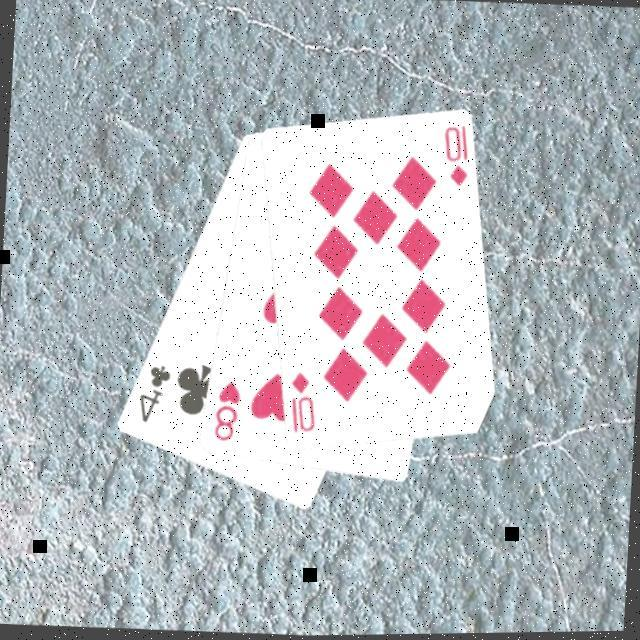10D: (437, 120, 473, 191), (284, 368, 319, 436)
4C: (134, 358, 172, 426)
8H: (209, 376, 243, 444)
